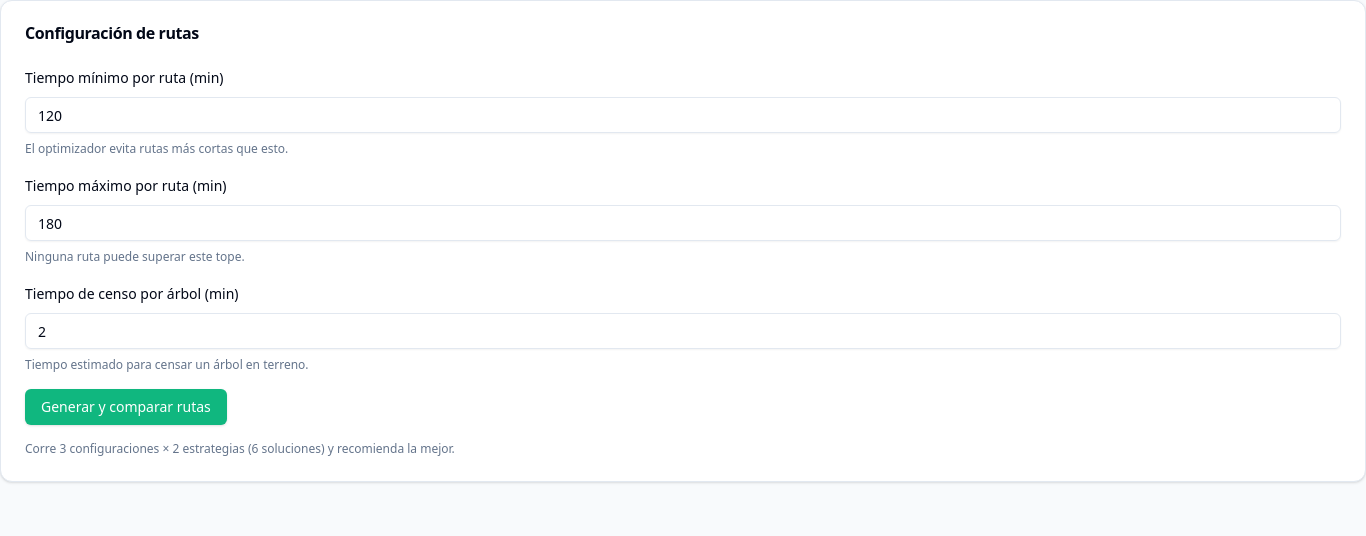
Test case: RoutingConfigForm › blocks submit and warns when min exceeds max
This screenshot has width=1366, height=536.
Replace the text in the number field labelled "Tiempo máximo por ruta (min)" with "1": [683, 223] box 25,205 -> 1341,241
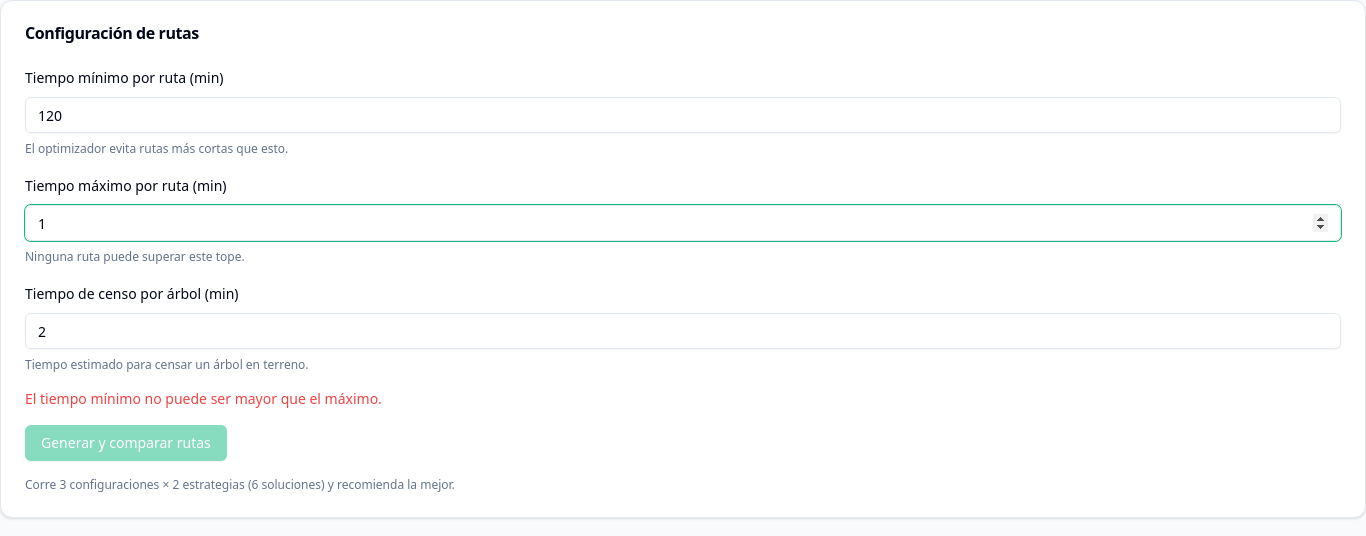
Check: the button "Generar y comparar rutas" is disabled, box 25,425 -> 227,461
Check: the text "El tiempo mínimo no puede ser mayor que el máximo." is shown, box 25,389 -> 382,408
